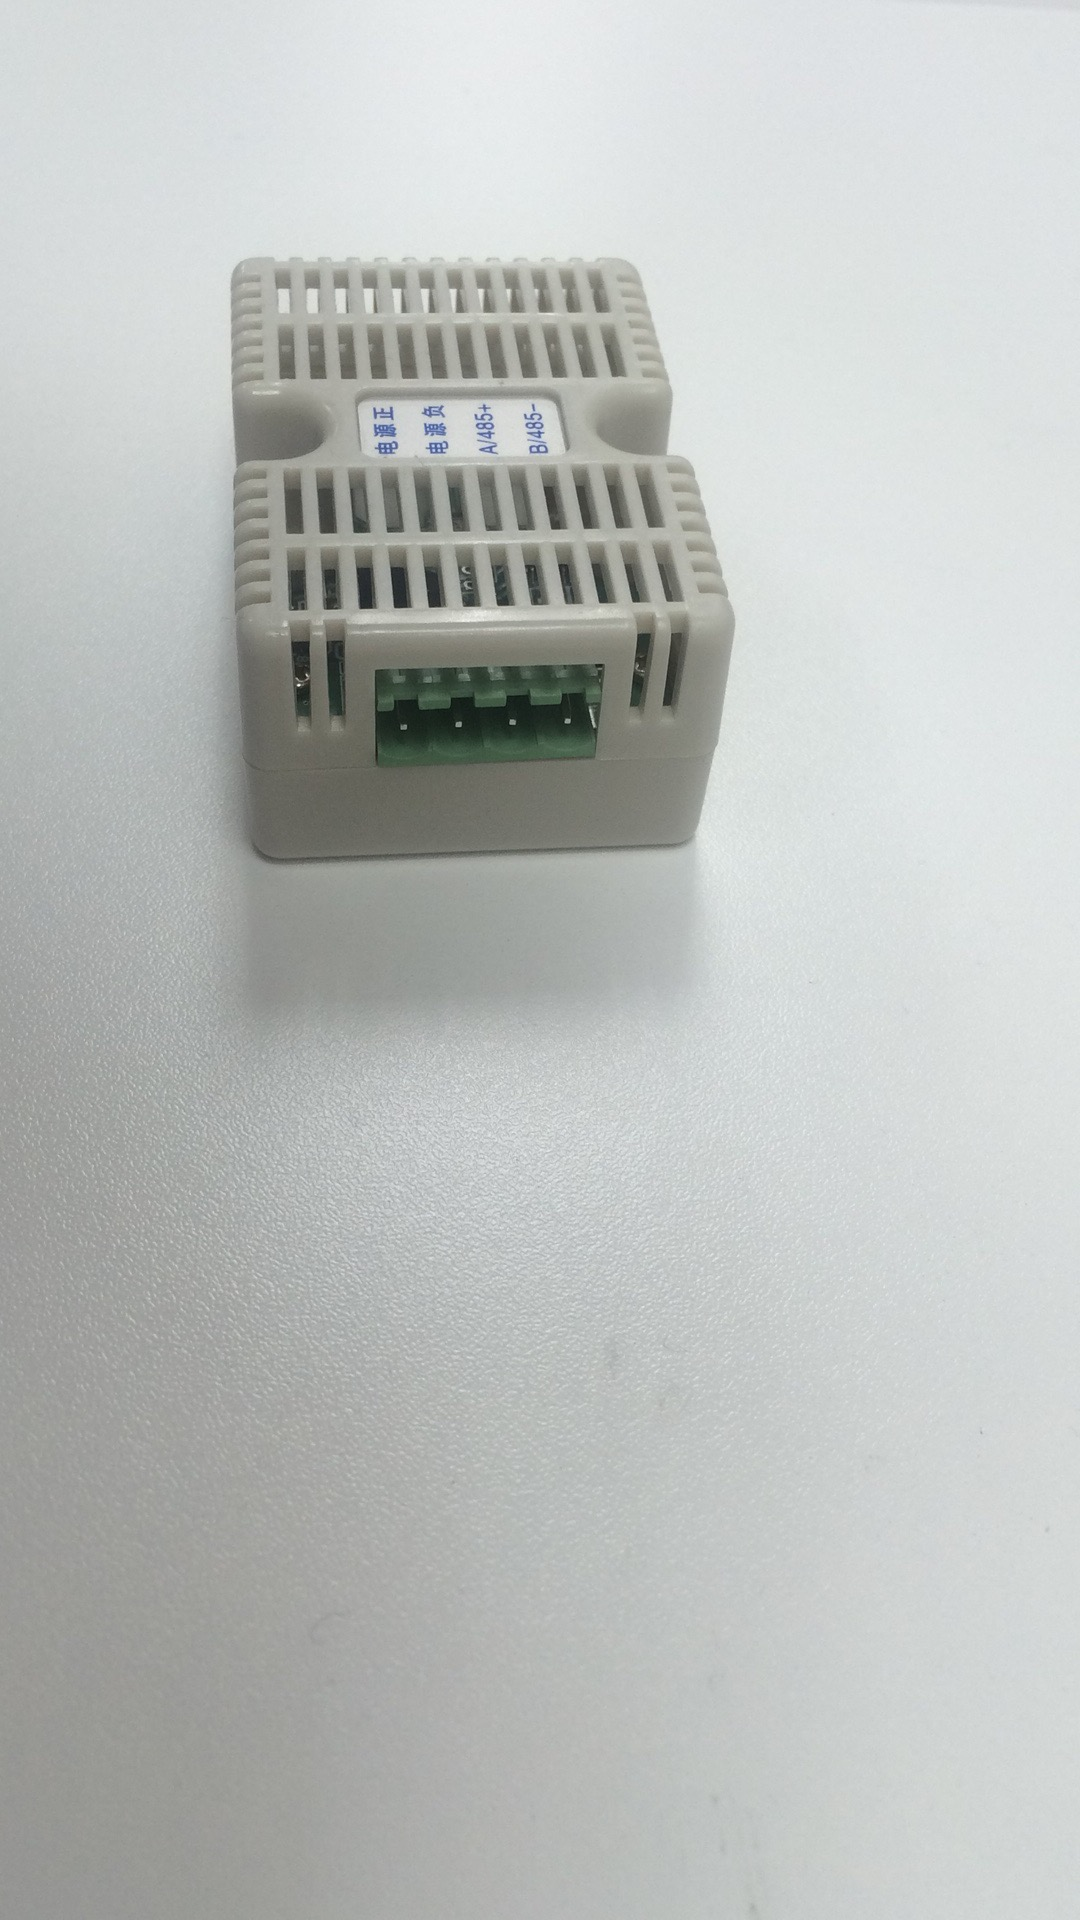temperature: (211, 236, 777, 902)
